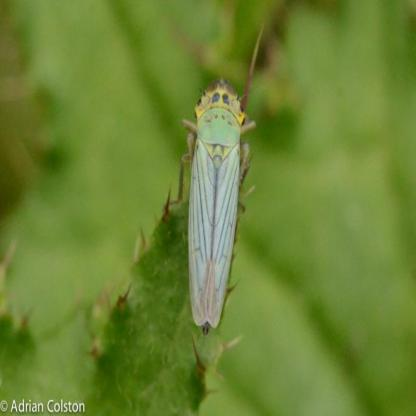Green-Leafhopper: (176, 67, 252, 338)
